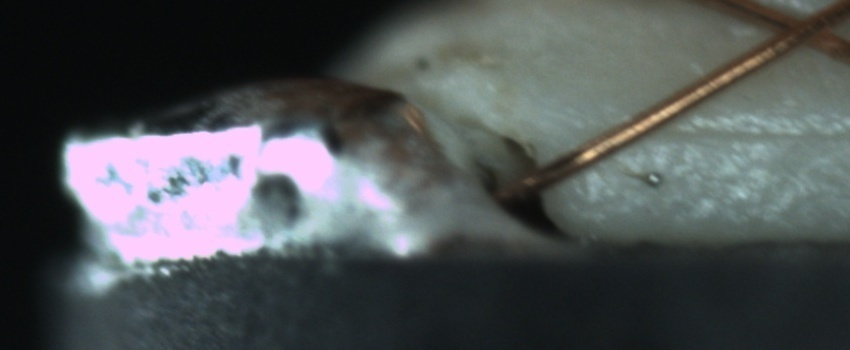CL: (755, 0, 843, 59)
DL: (636, 100, 849, 163)
